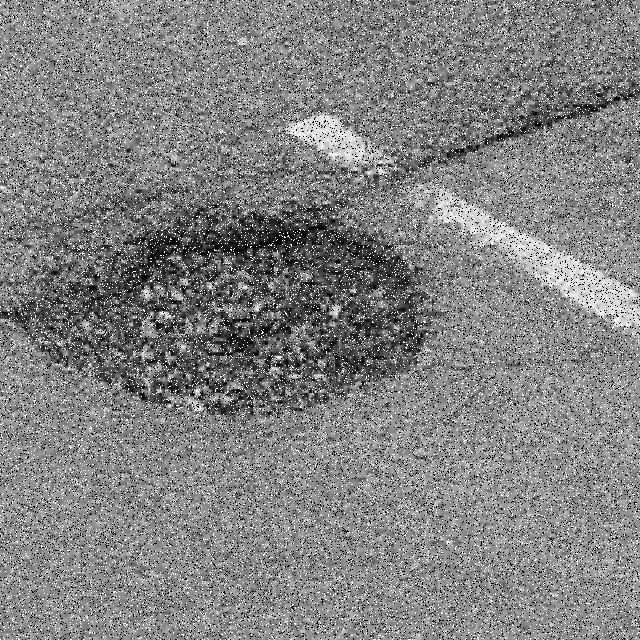pothole: (0, 197, 432, 422)
